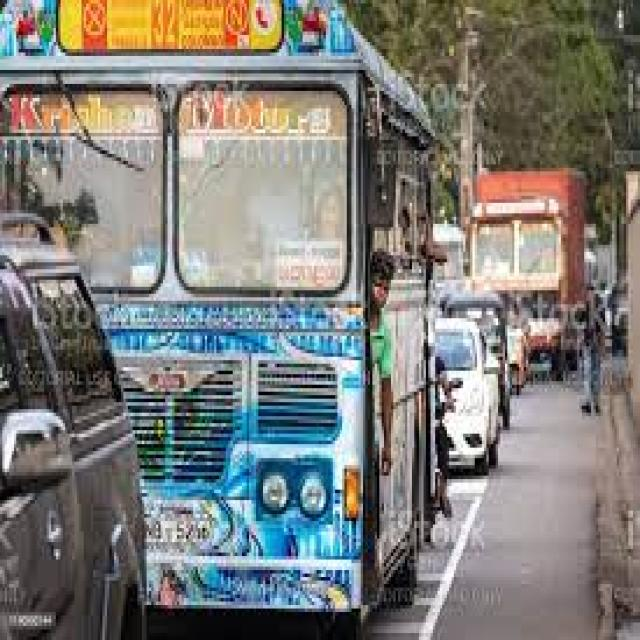bus: (0, 0, 431, 612)
car: (0, 213, 142, 640), (435, 318, 496, 472)
motorcycle: (507, 329, 524, 395)
person: (370, 252, 393, 501), (579, 287, 603, 413)
three wheeler: (442, 294, 507, 427)
tractor: (470, 168, 582, 371)
